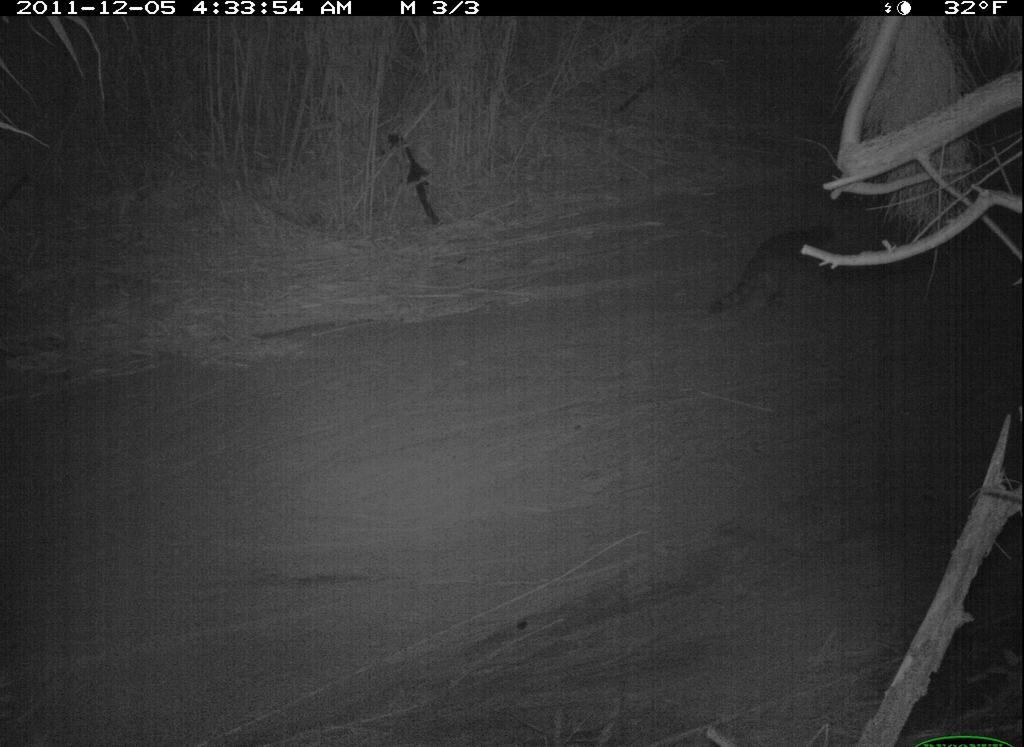raccoon: (699, 218, 853, 329)
